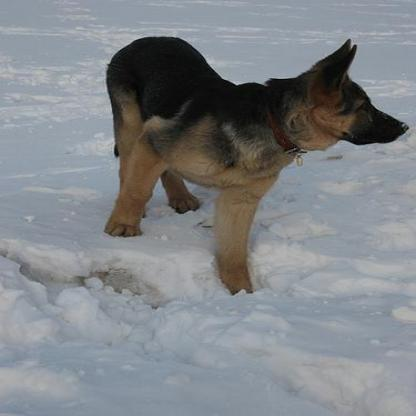German_shepherd: (100, 32, 410, 293)
